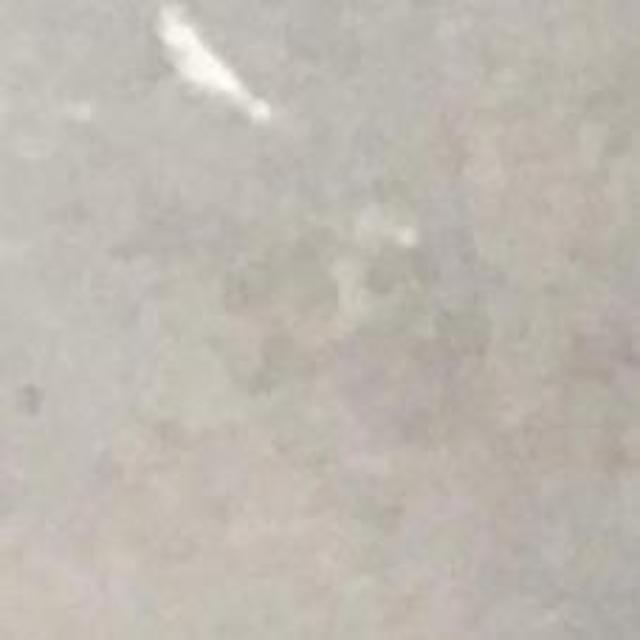peeling plaster: (156, 6, 273, 124)
